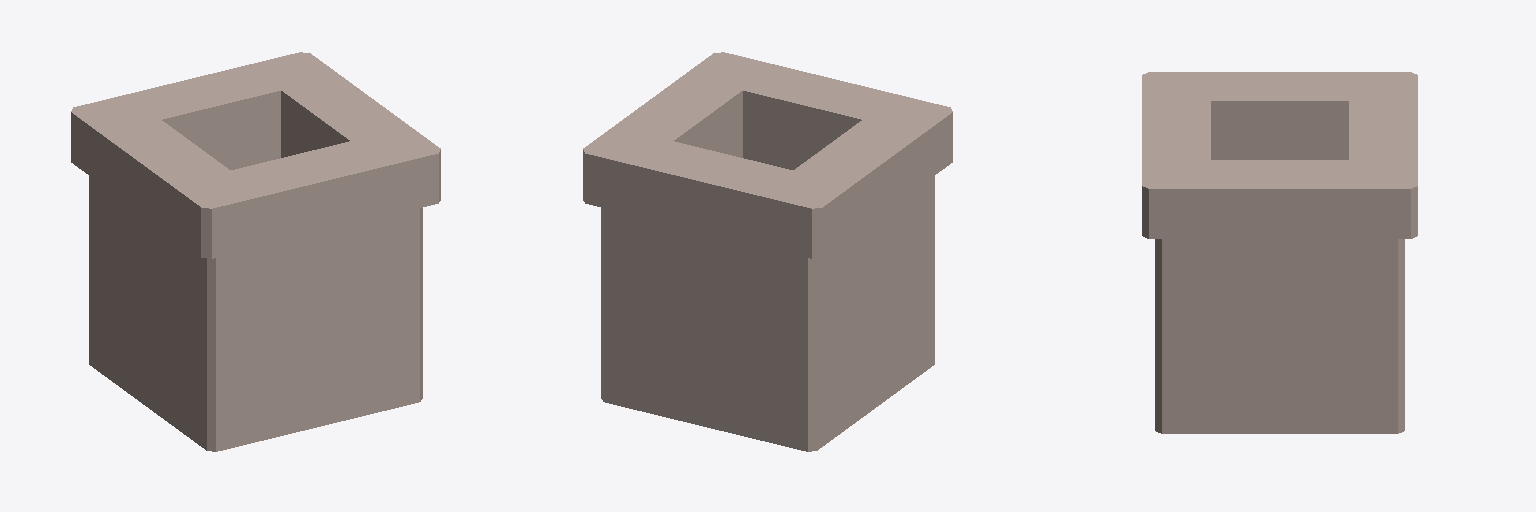
The model's file is Prop_Exterior_Chimney.obj.
3 renders of one model, left to right at view 1: azimuth 30°, elevation 25°; view 2: azimuth 150°, elevation 25°; view 3: azimuth 270°, elevation 25°, orthographic.
Visible parts, largest first — view 1: object1; view 2: object1; view 3: object1.
Boxes of the visible parts, x1,y1,x2,y2 form: object1: [71, 52, 440, 451]; object1: [583, 52, 952, 451]; object1: [1142, 72, 1417, 433].
Size of the model in its own units: 1 by 1 by 1.